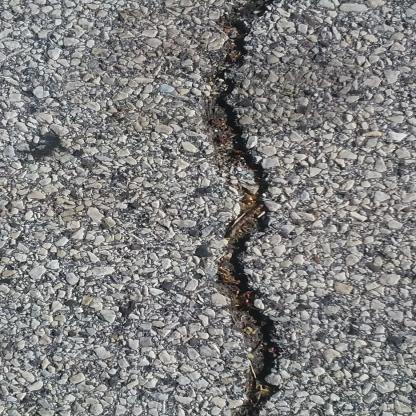Cracks: (203, 0, 300, 416)
